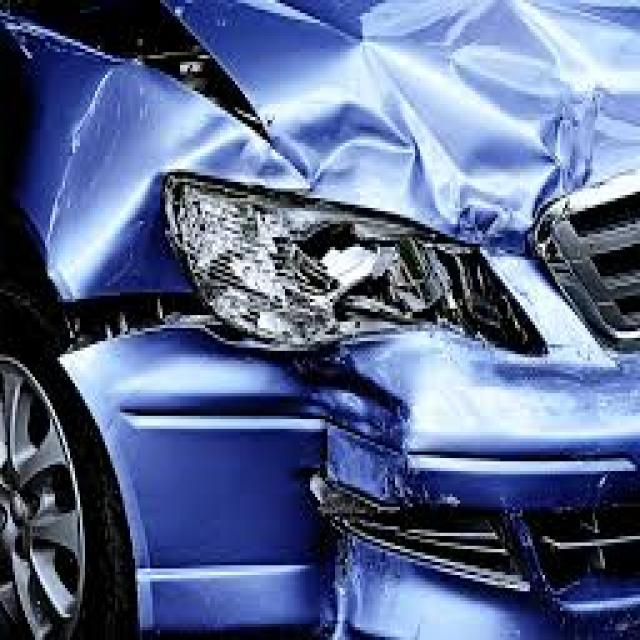severe: (96, 5, 632, 606)
